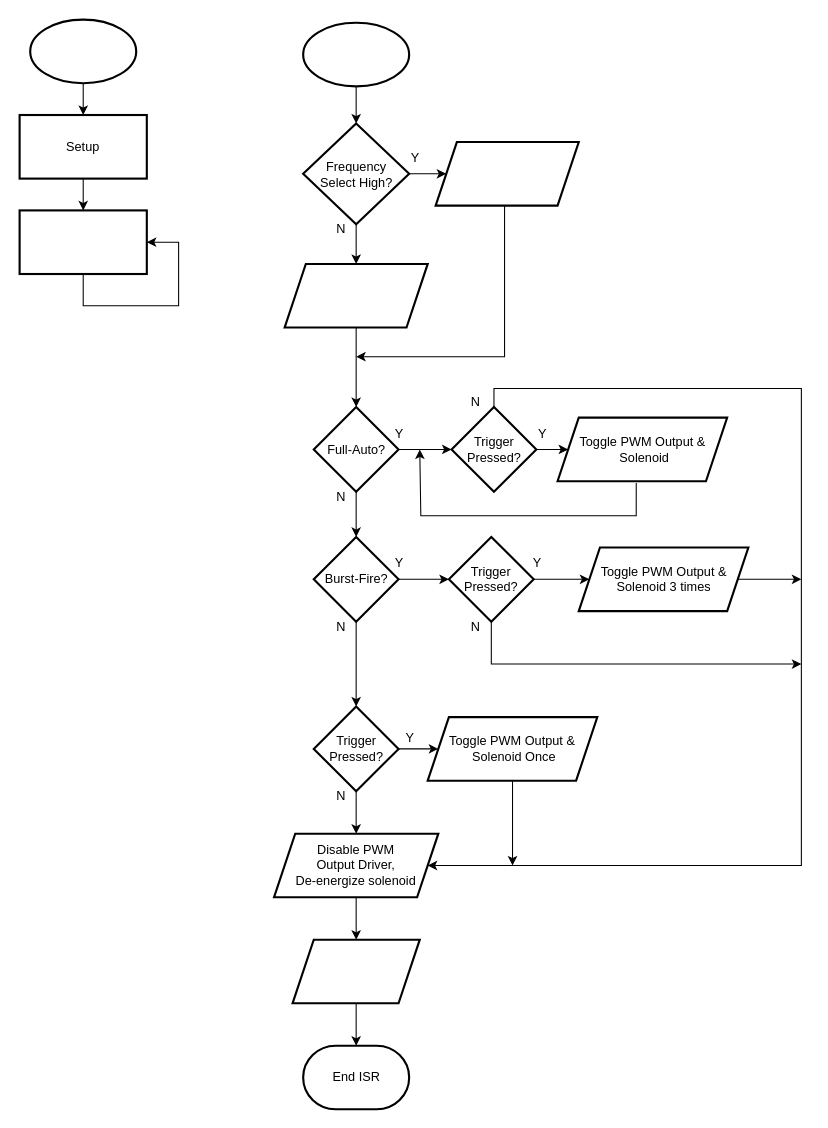
Image size: 828x1128. Some labels were removed from this diagram. Each missing label, with the centre of its shape:
"Clear interrupt flags" belongs at (355,971).
"Set PWM frequency to 38kHz, Duty Cycle to 95%" belongs at (355,295).
"Set PWM frequency to 56kHz, Duty Cycle to 95%" belongs at (506,173).
"Start" belongs at (83,51).
"Start ISR" belongs at (356,54).
"Start MAIN" belongs at (82,242).
